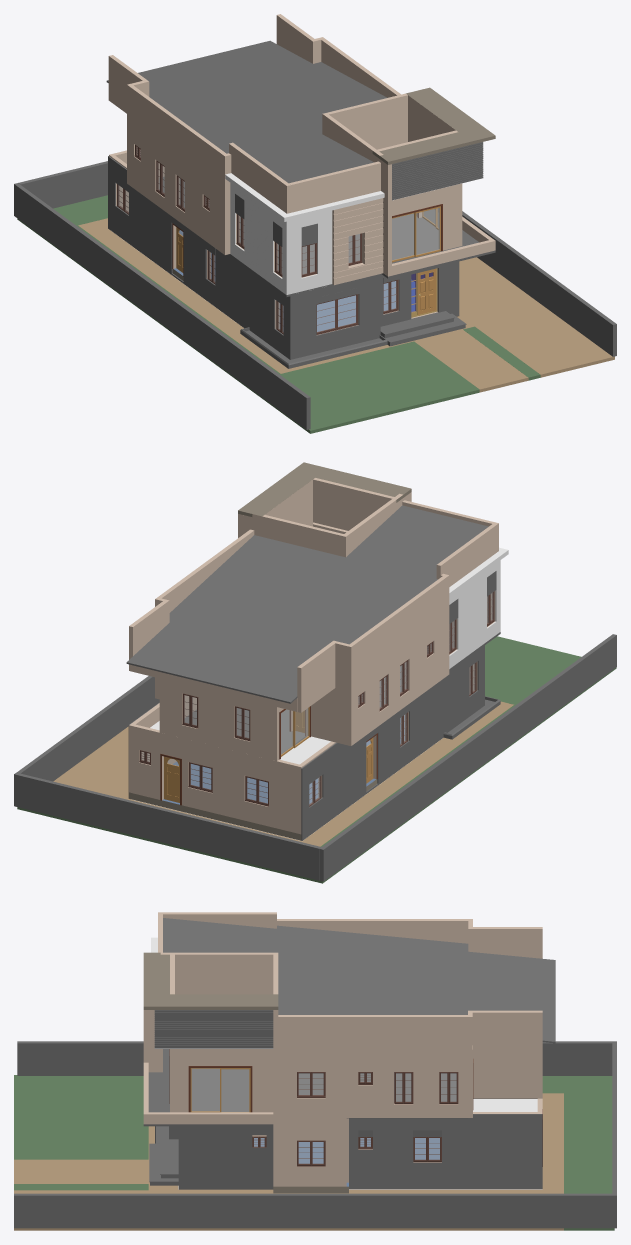
File: Genesis5.glb
3 renders of one model, top to bottom at view 1: azimuth 30°, elevation 25°; view 2: azimuth 150°, elevation 25°; view 3: azimuth 270°, elevation 25°, orthographic. The views are drawn at different scales.
Parts seen in each view (by area): view 1: Wall Walls <324225 new block 230 mm<, FamilyInstance Casework Casework 1 <325590 Casework 1<, FootPrintRoof Roofs <324746 roof 4<, Floor Floors <51959 walkways 4 site<, Floor Floors <63109 grass floor<, FamilyInstance Windows Dbl w Glazing Bars (2) <319490 800<, FamilyInstance Doors M_Single-Decorative 2 <253878 900 x 210, FamilyInstance Casework Casework 18 <343914 Casework 18<, Floor Floors <325042 FLR-LIVING<, Floor Floors <255474 GF<, FamilyInstance Casework Casework 4 <367050 Casework 4<, FamilyInstance Casework Casework 13 <356187 Casework 41<; view 2: Wall Walls <324225 new block 230 mm<, FootPrintRoof Roofs <324746 roof 4<, FamilyInstance Casework Casework 1 <325590 Casework 1<, Floor Floors <51959 walkways 4 site<, Floor Floors <63109 grass floor<, FamilyInstance Windows Dbl w Glazing Bars (2) <319490 800<, Floor Floors <325042 FLR-LIVING<, FamilyInstance Doors M_Single-Decorative 2 <253878 900 x 210, Floor Floors <255474 GF<, FamilyInstance Casework Casework 18 <343914 Casework 18<, Ceiling Ceilings <330324 Ceiling 2<; view 3: Wall Walls <324225 new block 230 mm<, FootPrintRoof Roofs <324746 roof 4<, FamilyInstance Casework Casework 1 <325590 Casework 1<, Floor Floors <63109 grass floor<, Floor Floors <51959 walkways 4 site<, FamilyInstance Casework Casework 18 <343914 Casework 18<, FamilyInstance Windows Dbl w Glazing Bars (2) <319490 800<, Floor Floors <325042 FLR-LIVING<, FamilyInstance Doors M_Single-Decorative 2 <253878 900 x 210, Floor Floors <255474 GF<, Ceiling Ceilings <330324 Ceiling 2<, FamilyInstance Casework Casework 13 <356187 Casework 41< (+2 smaller).
Part boxes in pixels (bbox=[...]): Wall Walls <324225 new block 230 mm<: bbox=[14, 14, 616, 429]; FamilyInstance Casework Casework 1 <325590 Casework 1<: bbox=[108, 142, 483, 359]; FootPrintRoof Roofs <324746 roof 4<: bbox=[106, 40, 387, 183]; Floor Floors <51959 walkways 4 site<: bbox=[78, 218, 614, 392]; Floor Floors <63109 grass floor<: bbox=[17, 195, 540, 433]; FamilyInstance Windows Dbl w Glazing Bars (2) <319490 800<: bbox=[117, 145, 398, 334]; FamilyInstance Doors M_Single-Decorative 2 <253878 900 x 210: bbox=[172, 204, 442, 317]; FamilyInstance Casework Casework 18 <343914 Casework 18<: bbox=[159, 177, 495, 296]; Floor Floors <325042 FLR-LIVING<: bbox=[372, 87, 495, 164]; Floor Floors <255474 GF<: bbox=[172, 230, 415, 331]; FamilyInstance Casework Casework 4 <367050 Casework 4<: bbox=[240, 327, 387, 368]; FamilyInstance Casework Casework 13 <356187 Casework 41<: bbox=[380, 311, 454, 334]; Wall Walls <324225 new block 230 mm<: bbox=[14, 478, 616, 881]; FootPrintRoof Roofs <324746 roof 4<: bbox=[126, 505, 488, 703]; FamilyInstance Casework Casework 1 <325590 Casework 1<: bbox=[128, 547, 508, 840]; Floor Floors <51959 walkways 4 site<: bbox=[53, 701, 513, 846]; Floor Floors <63109 grass floor<: bbox=[17, 636, 616, 883]; FamilyInstance Windows Dbl w Glazing Bars (2) <319490 800<: bbox=[139, 591, 494, 806]; Floor Floors <325042 FLR-LIVING<: bbox=[238, 462, 411, 516]; FamilyInstance Doors M_Single-Decorative 2 <253878 900 x 210: bbox=[160, 706, 377, 805]; Floor Floors <255474 GF<: bbox=[129, 715, 404, 840]; FamilyInstance Casework Casework 18 <343914 Casework 18<: bbox=[184, 623, 500, 754]; Ceiling Ceilings <330324 Ceiling 2<: bbox=[150, 721, 330, 764]; Wall Walls <324225 new block 230 mm<: bbox=[14, 912, 616, 1228]; FootPrintRoof Roofs <324746 roof 4<: bbox=[163, 918, 555, 1043]; FamilyInstance Casework Casework 1 <325590 Casework 1<: bbox=[151, 937, 542, 1189]; Floor Floors <63109 grass floor<: bbox=[14, 1075, 614, 1230]; Floor Floors <51959 walkways 4 site<: bbox=[14, 1093, 563, 1230]; FamilyInstance Casework Casework 18 <343914 Casework 18<: bbox=[143, 1049, 456, 1125]; FamilyInstance Windows Dbl w Glazing Bars (2) <319490 800<: bbox=[252, 1072, 458, 1166]; Floor Floors <325042 FLR-LIVING<: bbox=[143, 952, 278, 1009]; FamilyInstance Doors M_Single-Decorative 2 <253878 900 x 210: bbox=[169, 1049, 542, 1166]; Floor Floors <255474 GF<: bbox=[254, 1138, 439, 1193]; Ceiling Ceilings <330324 Ceiling 2<: bbox=[155, 1048, 537, 1111]; FamilyInstance Casework Casework 13 <356187 Casework 41<: bbox=[160, 1139, 178, 1174].
Size of the model in its own units: 15.2 by 9.17 by 25.1.
